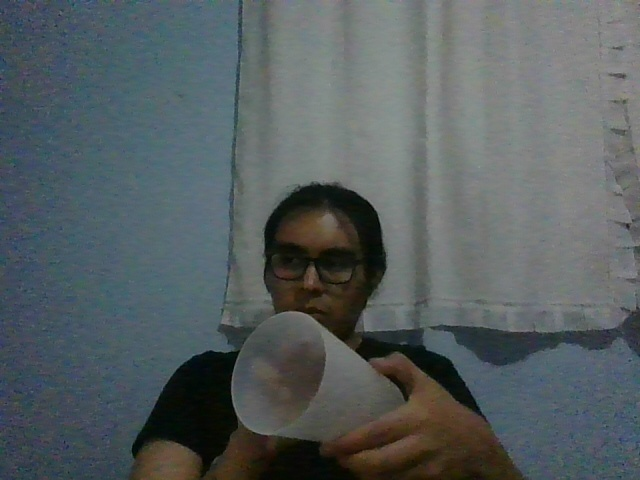vaso: (230, 310, 407, 443)
